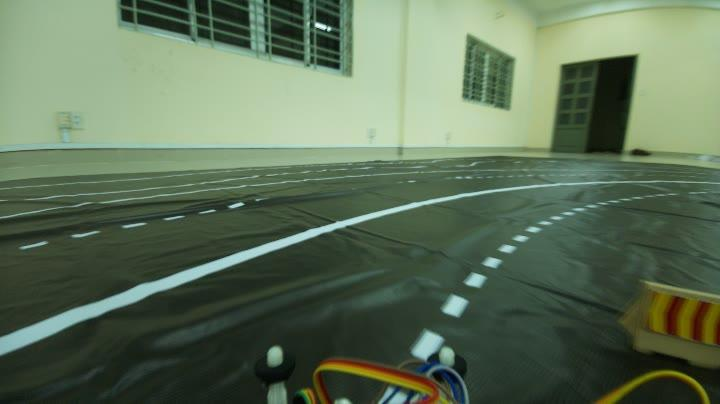roadblock: (621, 277, 720, 363)
